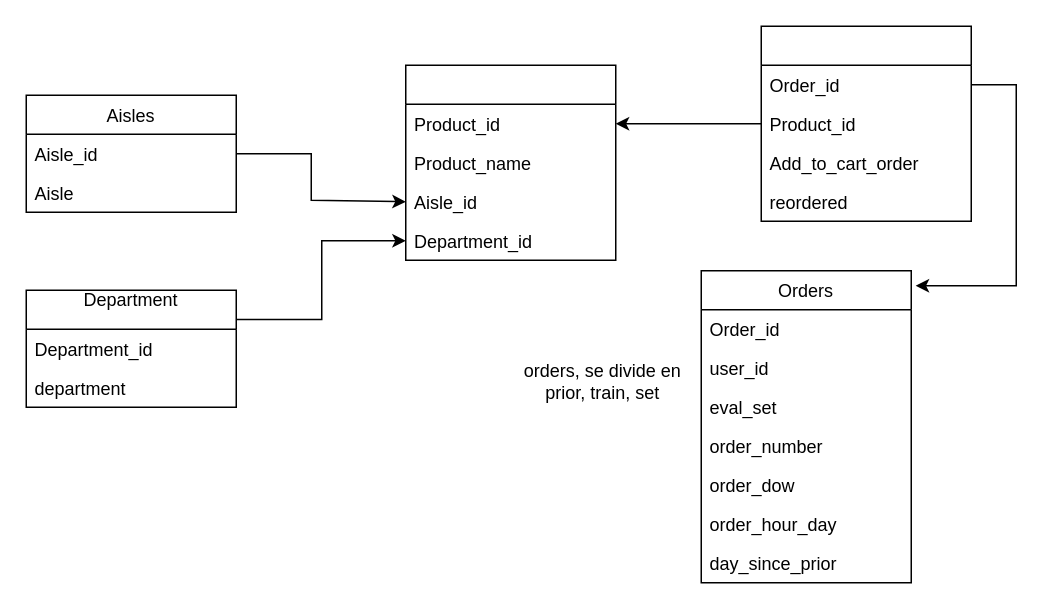
Image size: 1055x614. Some labels were removed from this diagram. The box of each missing label's shape, as (x1, y1, x2, y2) in pixels:
Orders_Product_Set: (760, 25, 971, 221)
Products: (404, 64, 616, 260)
